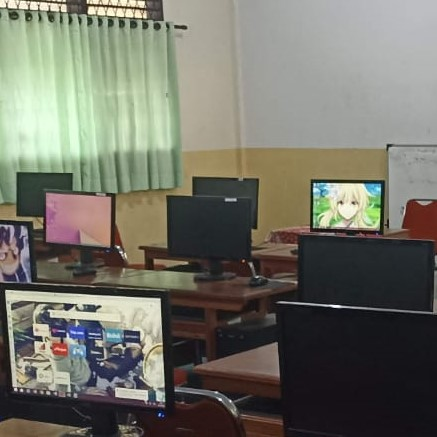monitor: (0, 282, 175, 427), (275, 300, 436, 432), (296, 233, 434, 312), (166, 195, 254, 264), (43, 189, 116, 252), (310, 179, 385, 235), (192, 176, 259, 229), (16, 172, 73, 219), (0, 220, 38, 283)
